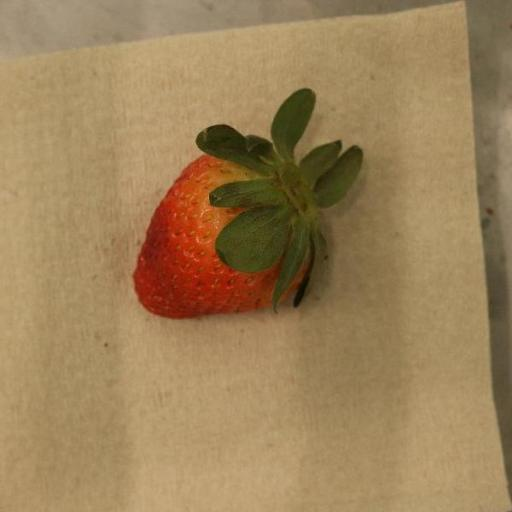Strawberry: (133, 88, 365, 320)
